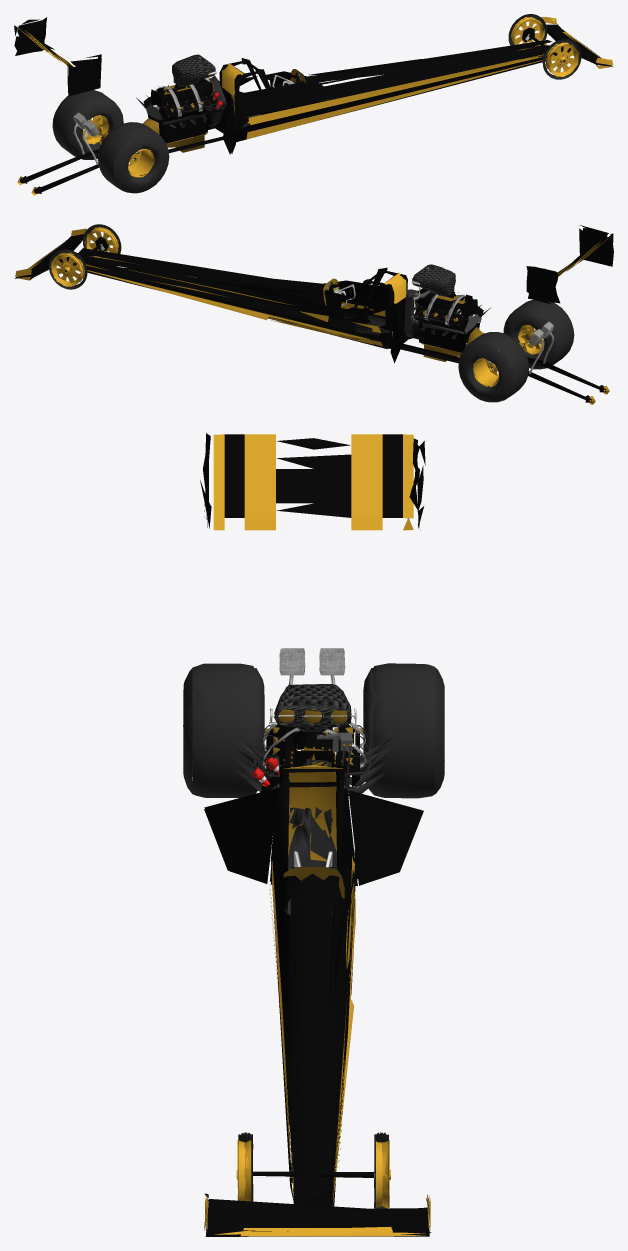
The model's file is veh-dragster.glb.
3 renders of one model, top to bottom at view 1: azimuth 30°, elevation 25°; view 2: azimuth 150°, elevation 25°; view 3: azimuth 270°, elevation 25°, orthographic. The views are drawn at different scales.
Visible parts, largest first — view 1: p0; view 2: p0; view 3: p0.
Boxes of the visible parts, x1,y1,x2,y2 form: p0: (14,14,613,195); p0: (15,224,613,404); p0: (183,433,444,1236).
Bounding box in the file's own units: 17.08 × 4.25 × 3.46.
91 materials, 4 textured.
